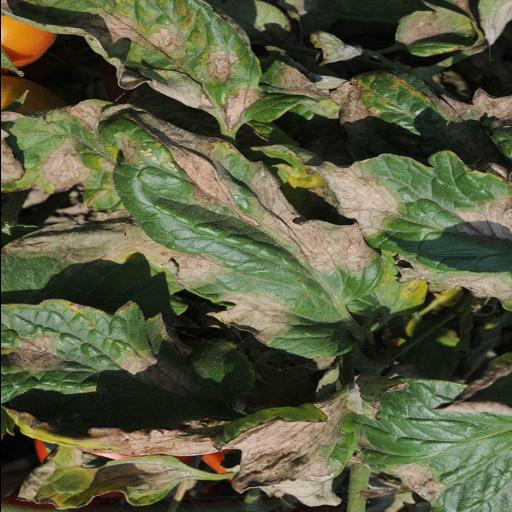Late Blight: (80, 106, 376, 366), (0, 0, 320, 138), (88, 374, 362, 512), (304, 143, 502, 312), (358, 359, 509, 512), (0, 292, 173, 410)
